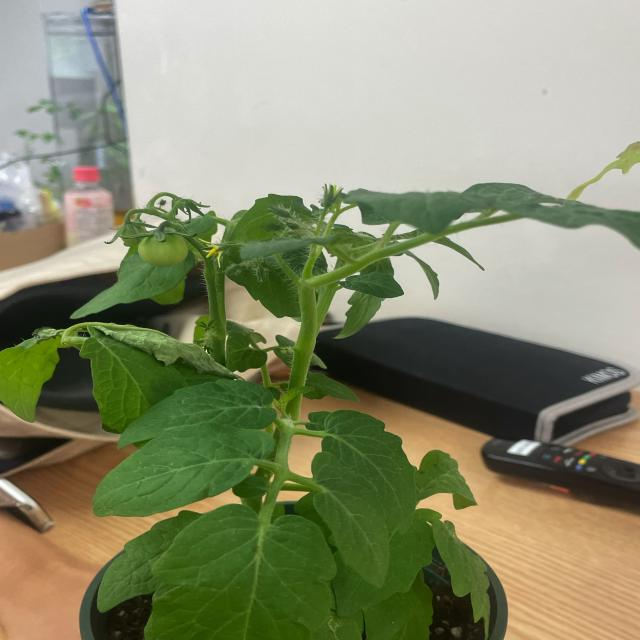level 1: (138, 232, 190, 268), (117, 223, 149, 248)
